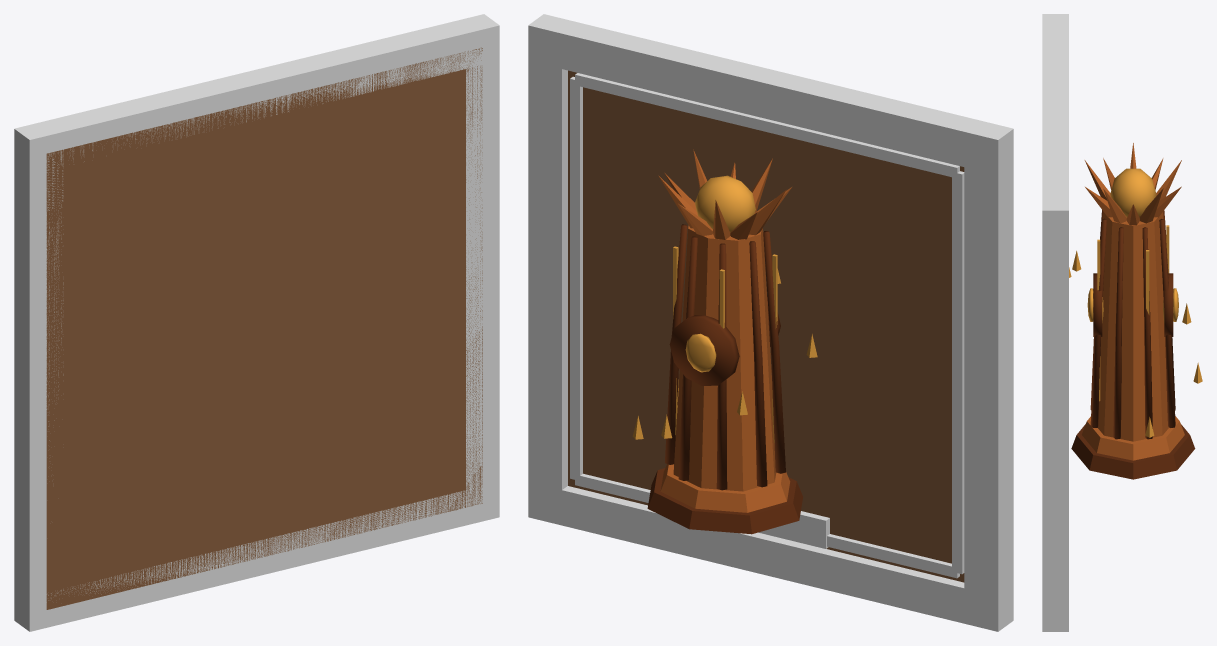
Rendered from ancient_cultist_trophy_v0.glb.
3 views of the same model, side by side, from view 1: azimuth 30°, elevation 25°; view 2: azimuth 150°, elevation 25°; view 3: azimuth 270°, elevation 25° (orthographic). The views are drawn at different scales.
Visible parts, largest first — view 1: ancient_cultist_trophy_v0; view 2: ancient_cultist_trophy_v0; view 3: ancient_cultist_trophy_v0.
Boxes of the visible parts, <box> form: ancient_cultist_trophy_v0: <box>14,14,499,631</box>; ancient_cultist_trophy_v0: <box>528,14,1013,631</box>; ancient_cultist_trophy_v0: <box>1042,14,1202,631</box>.
Size of the model in its own units: 1.39 by 1.39 by 0.48.
